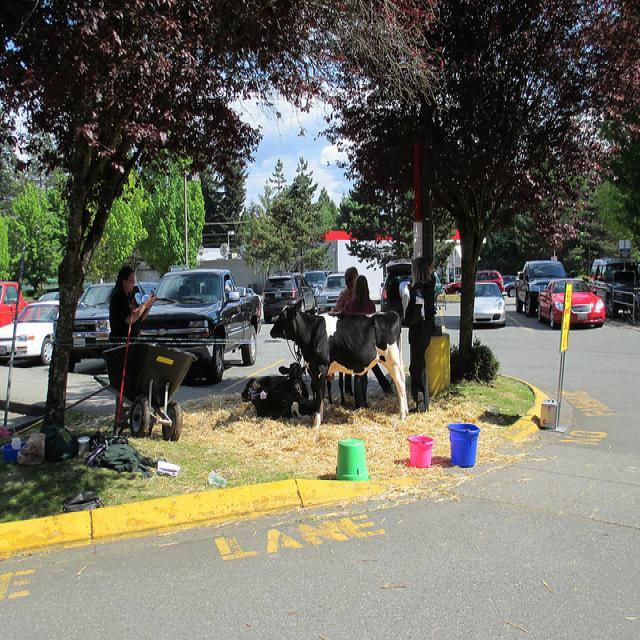Vehicle: (59, 256, 639, 372), (140, 270, 262, 382), (0, 301, 61, 367), (537, 278, 605, 329), (514, 261, 569, 318), (264, 274, 314, 314), (0, 281, 34, 329), (473, 283, 508, 329), (444, 272, 505, 295), (316, 270, 348, 313), (303, 268, 333, 300), (295, 273, 317, 314), (38, 289, 59, 299), (504, 281, 516, 297)
